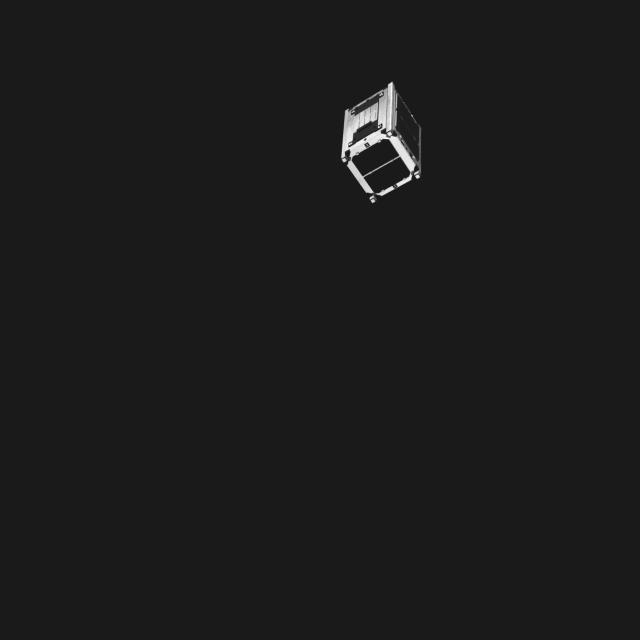medium_debris: (333, 78, 430, 210)
